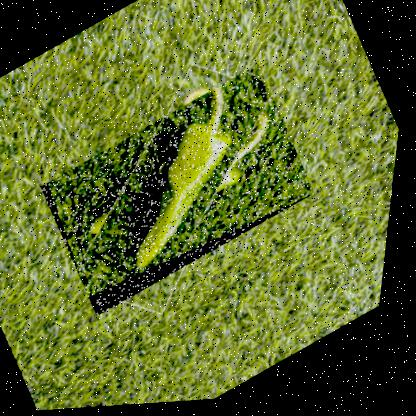capsicum: (31, 63, 330, 323)
